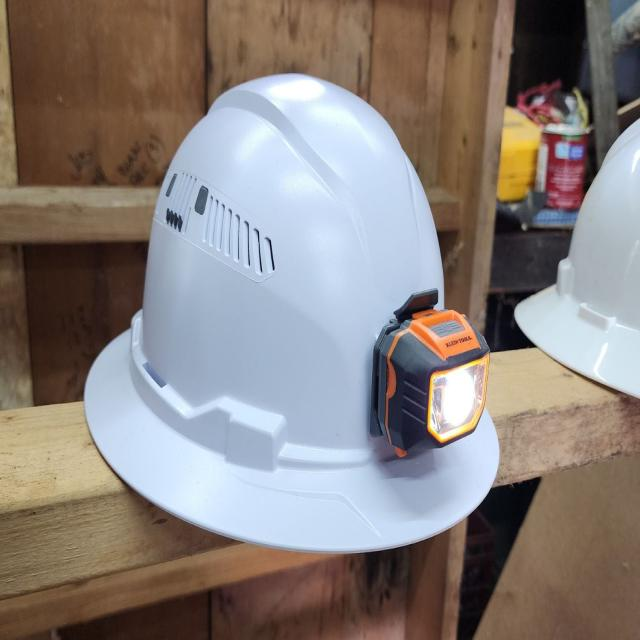helmet: (53, 41, 528, 560)
